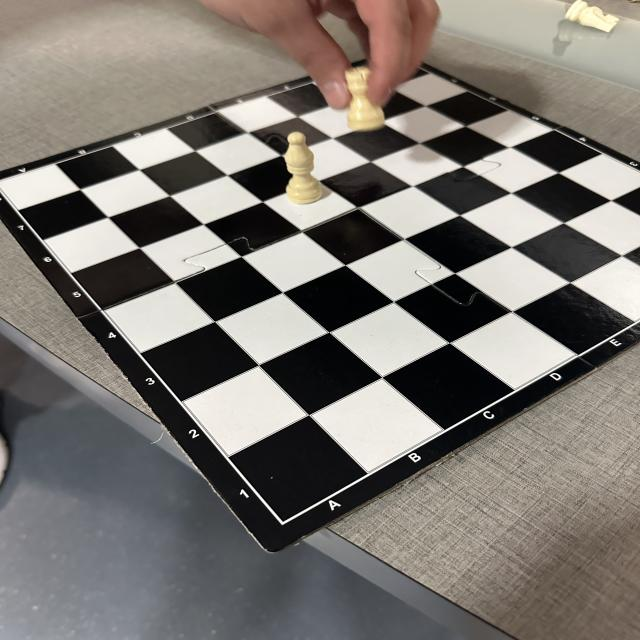White-Bishop: (283, 131, 323, 205)
White-Knight: (564, 0, 621, 33)
White-Rook: (344, 67, 386, 133)
